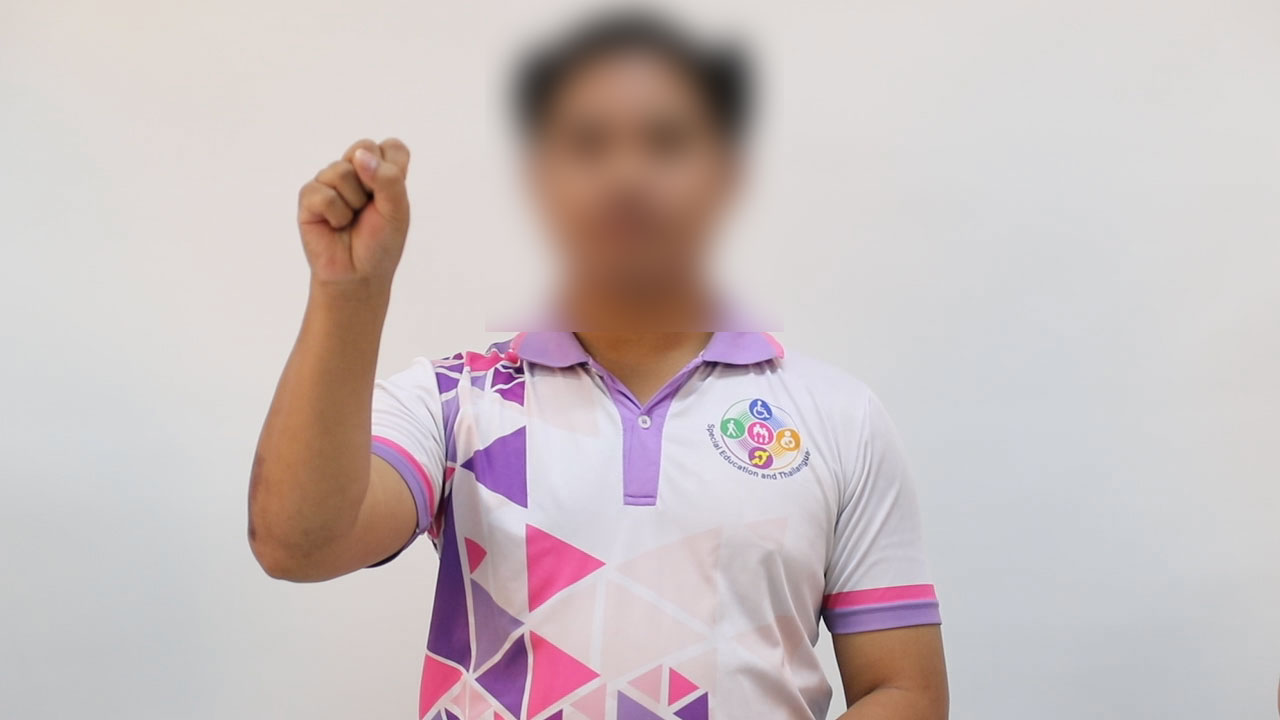sor: (256, 112, 441, 309)
